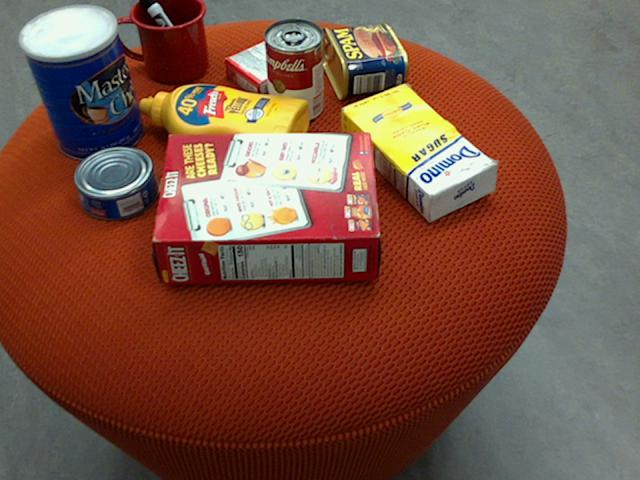cracker_box: (152, 131, 380, 283)
gelatin_box: (224, 33, 315, 100)
large_marker: (139, 0, 201, 73)
master_chef_can: (17, 4, 143, 160)
mug: (116, 0, 208, 83)
mustard_bottle: (139, 84, 309, 167)
potted_meat_can: (319, 24, 408, 101)
sugar_box: (339, 84, 498, 220)
tomato_soup_can: (263, 17, 324, 122)
tuna_fish_can: (73, 146, 158, 220)
